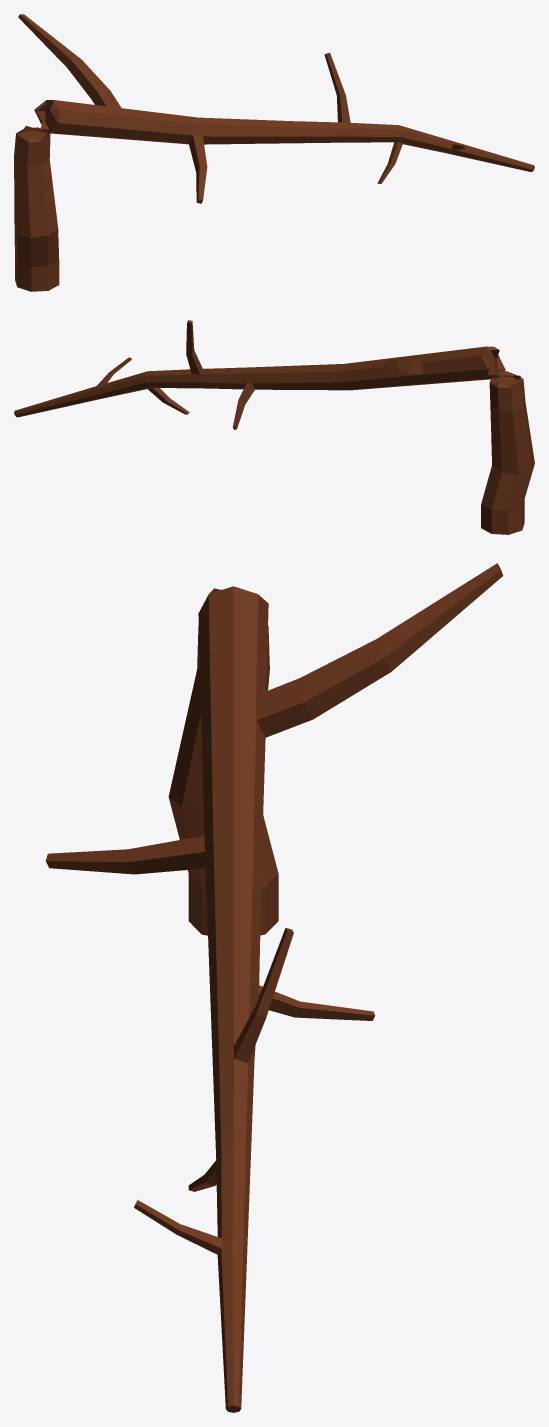
The model's file is Summer_Obstacle.fbx.
3 views of the same model, one above another, from view 1: azimuth 30°, elevation 25°; view 2: azimuth 150°, elevation 25°; view 3: azimuth 270°, elevation 25° (orthographic). The views are drawn at different scales.
Visible parts, largest first — view 1: Cylinder.023; view 2: Cylinder.023; view 3: Cylinder.023.
Part boxes in pixels (bbox=[...]): Cylinder.023: bbox=[14, 14, 534, 291]; Cylinder.023: bbox=[14, 320, 534, 534]; Cylinder.023: bbox=[45, 563, 503, 1412].
Size of the model in its own units: 1317 by 522 by 509.
